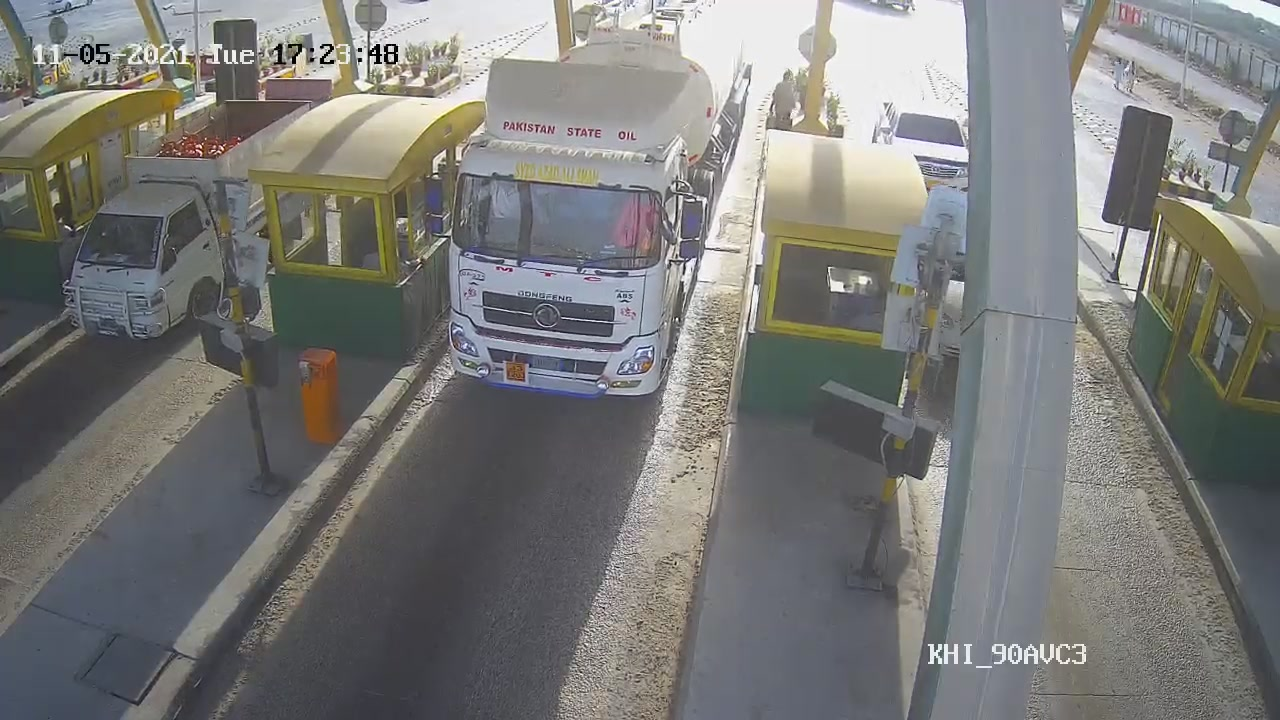F6: (432, 1, 754, 399)
